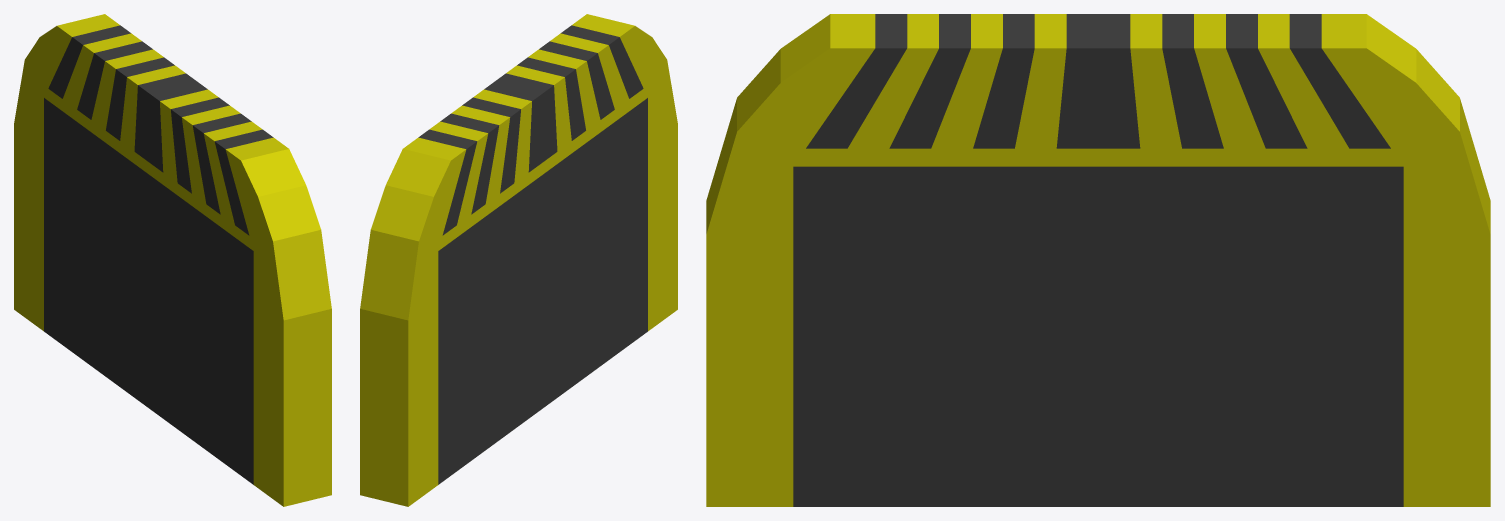
The model's file is FactoryWalls.fbx.
3 views of the same model, side by side, from view 1: azimuth 30°, elevation 25°; view 2: azimuth 150°, elevation 25°; view 3: azimuth 270°, elevation 25° (orthographic). The views are drawn at different scales.
Visible parts, largest first — view 1: Cube; view 2: Cube; view 3: Cube.
Boxes of the visible parts, x1,y1,x2,y2 form: Cube: (14,14,331,506); Cube: (360,14,677,506); Cube: (706,14,1490,506).
Size of the model in its own units: 140 by 871 by 1351.
